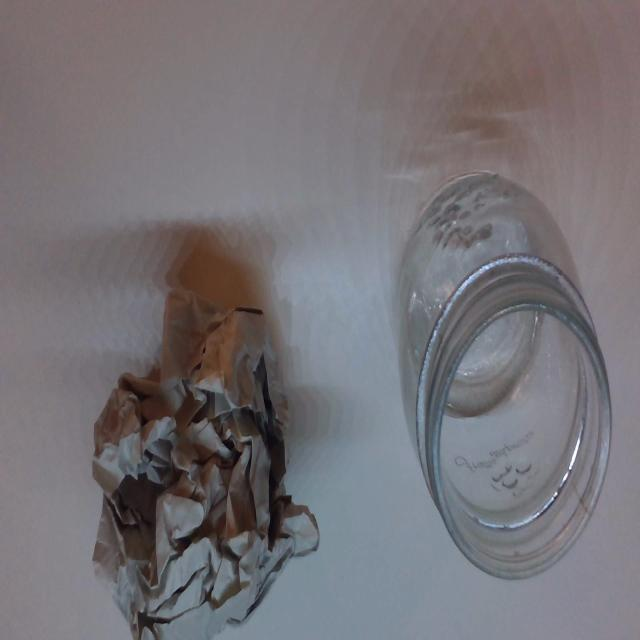Glass: (402, 175, 618, 586)
Paper: (92, 240, 321, 640)
